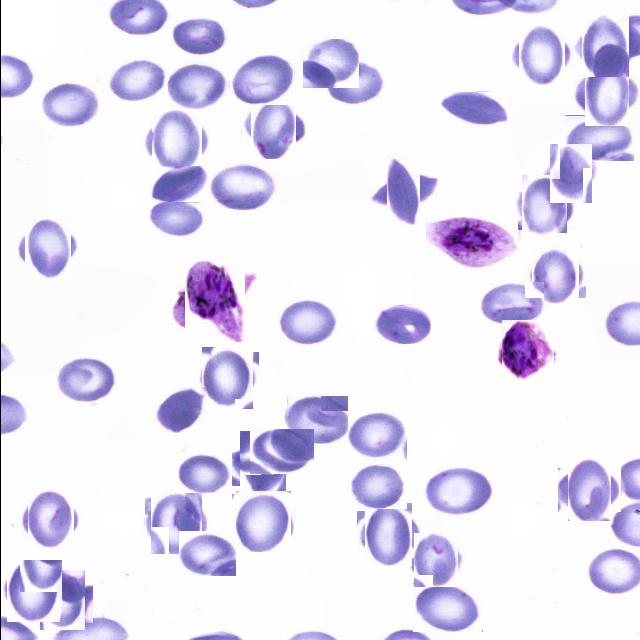difficult: (498, 322, 554, 378)
red blood cell: (423, 465, 494, 516), (147, 111, 206, 171), (412, 582, 482, 632), (233, 492, 291, 551), (4, 562, 63, 620), (198, 350, 256, 407), (208, 164, 278, 210), (564, 115, 634, 161), (53, 355, 118, 404), (231, 54, 293, 105), (344, 410, 407, 460), (147, 496, 203, 552), (360, 507, 416, 562), (286, 395, 348, 444), (577, 18, 632, 73), (20, 220, 74, 276), (166, 61, 228, 109), (516, 180, 571, 234), (578, 66, 633, 120), (246, 100, 300, 155), (514, 28, 568, 82), (528, 248, 582, 302), (22, 492, 76, 546), (562, 463, 616, 517), (235, 436, 289, 490), (249, 429, 313, 474), (277, 300, 338, 347), (376, 163, 429, 216), (302, 40, 358, 90), (36, 574, 88, 626), (39, 82, 99, 127), (480, 282, 543, 324), (346, 465, 406, 509), (324, 61, 382, 106), (178, 531, 235, 576), (108, 59, 164, 104), (545, 148, 595, 198), (410, 536, 460, 586), (155, 386, 206, 434), (440, 92, 508, 126), (148, 198, 203, 240), (374, 305, 431, 344), (172, 16, 226, 56), (174, 455, 227, 495), (149, 166, 207, 202)
schizont: (178, 266, 249, 336), (425, 217, 517, 269)
